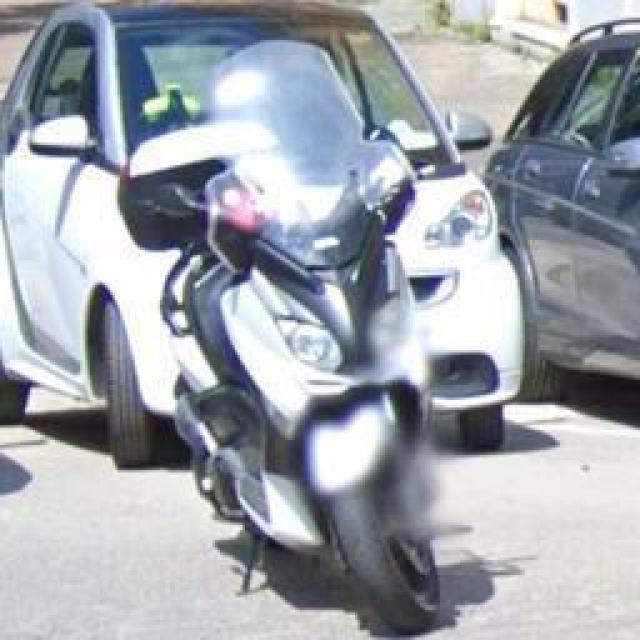motorcycle: (122, 45, 460, 635)
